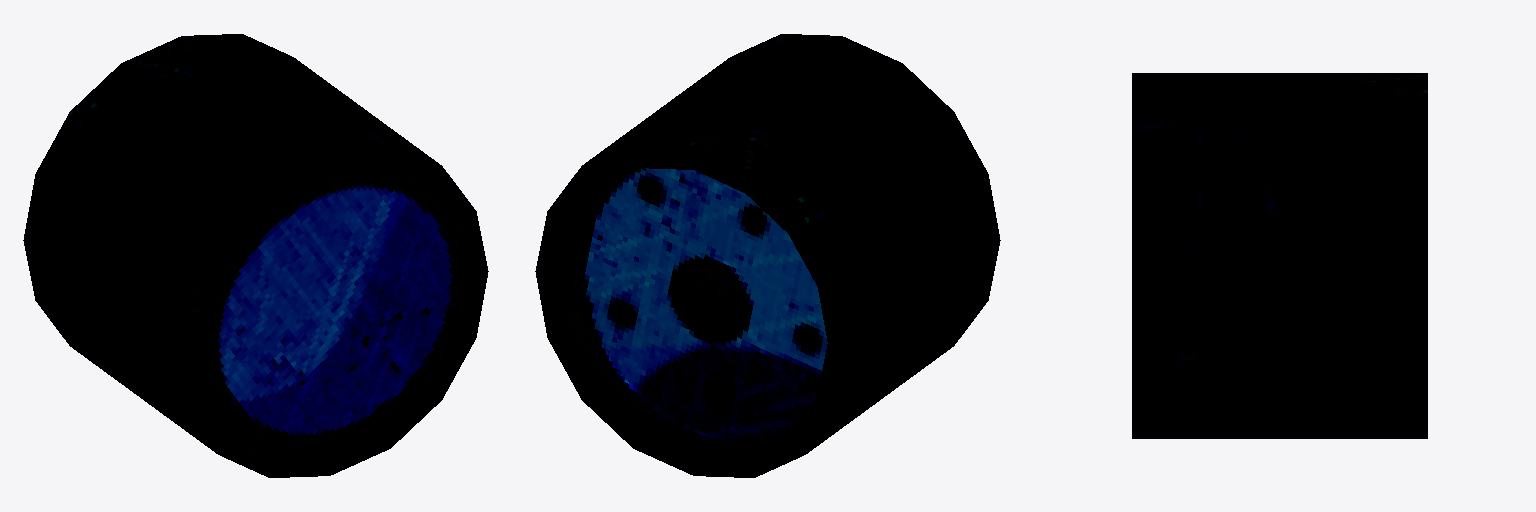
The picture shows the model from 3 angles: view 1: azimuth 30°, elevation 25°; view 2: azimuth 150°, elevation 25°; view 3: azimuth 270°, elevation 25°; orthographic projection.
Visible parts, largest first — view 1: rw_Cylinder.000; view 2: rw_Cylinder.000; view 3: rw_Cylinder.000.
Boxes of the visible parts, x1,y1,x2,y2 form: rw_Cylinder.000: [23, 34, 488, 477]; rw_Cylinder.000: [535, 34, 1000, 477]; rw_Cylinder.000: [1132, 73, 1427, 438].
Bounding box in the file's own units: 1.21 × 1.21 × 0.9843.
1 materials, 1 textured.